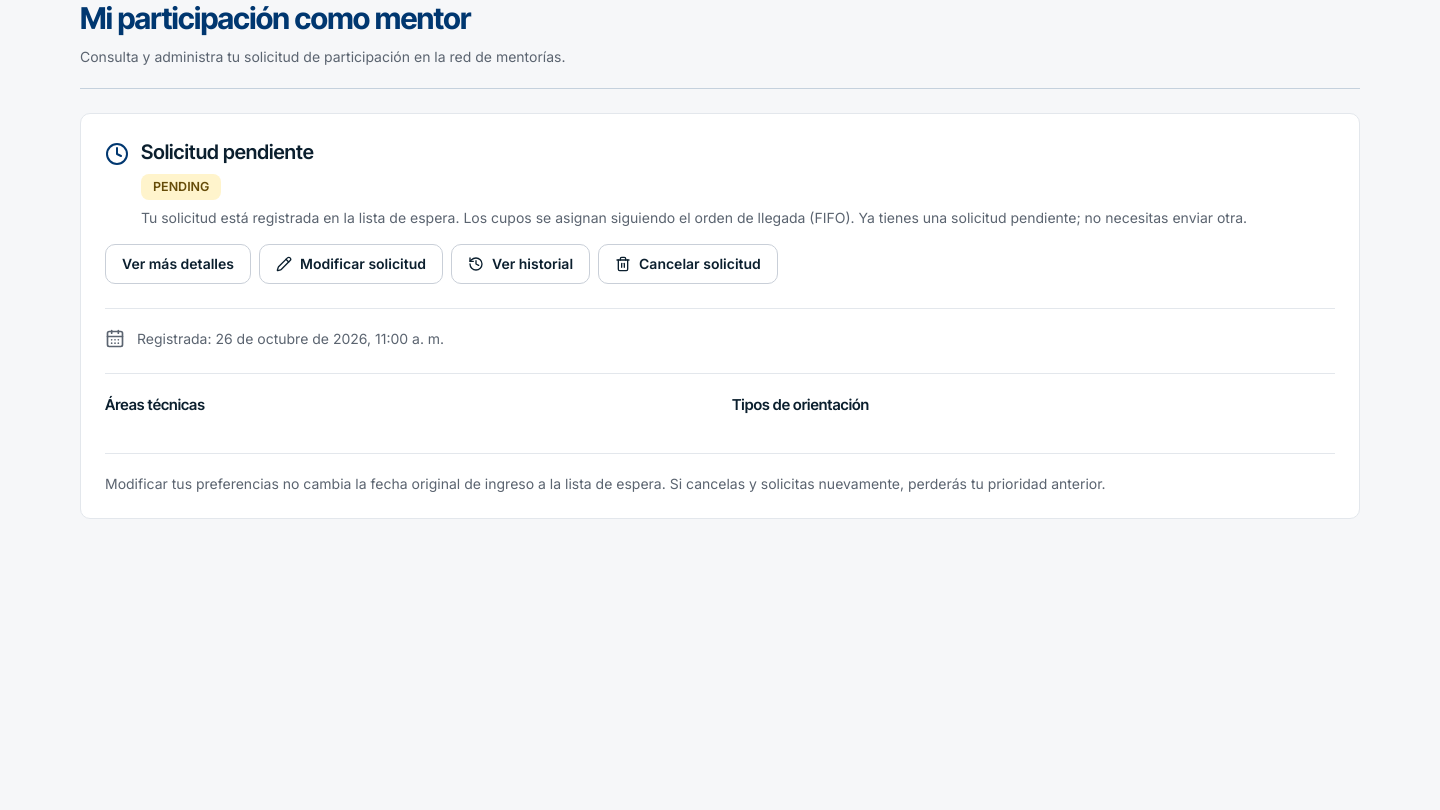
Test: Cancelación persistida › muestra el éxito tras la respuesta real
Click the button "Cancelar solicitud".
click(688, 264)  # box x1=598 y1=244 x2=778 y2=284
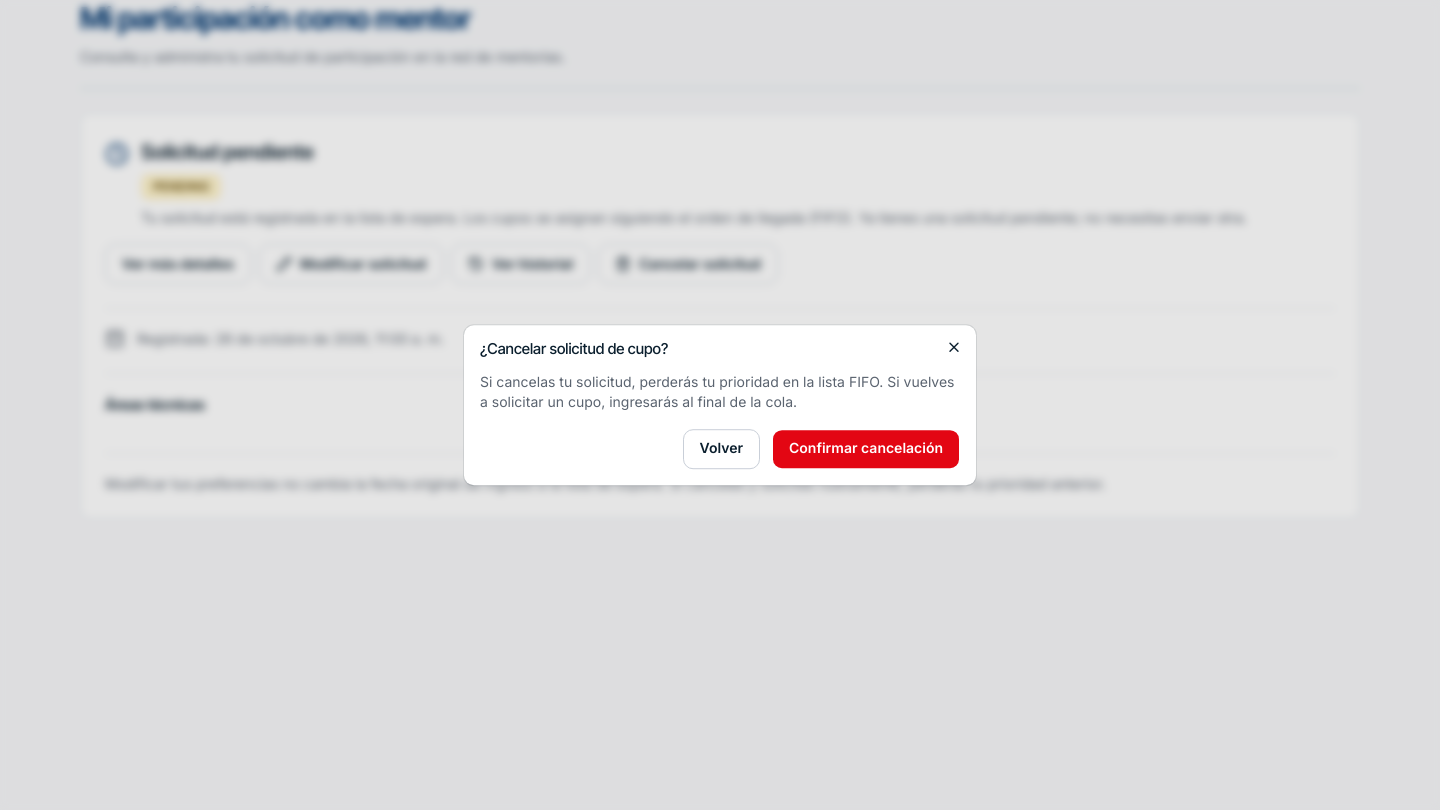
Click the button "Confirmar cancelación".
click(866, 449)  # box x1=772 y1=429 x2=960 y2=469
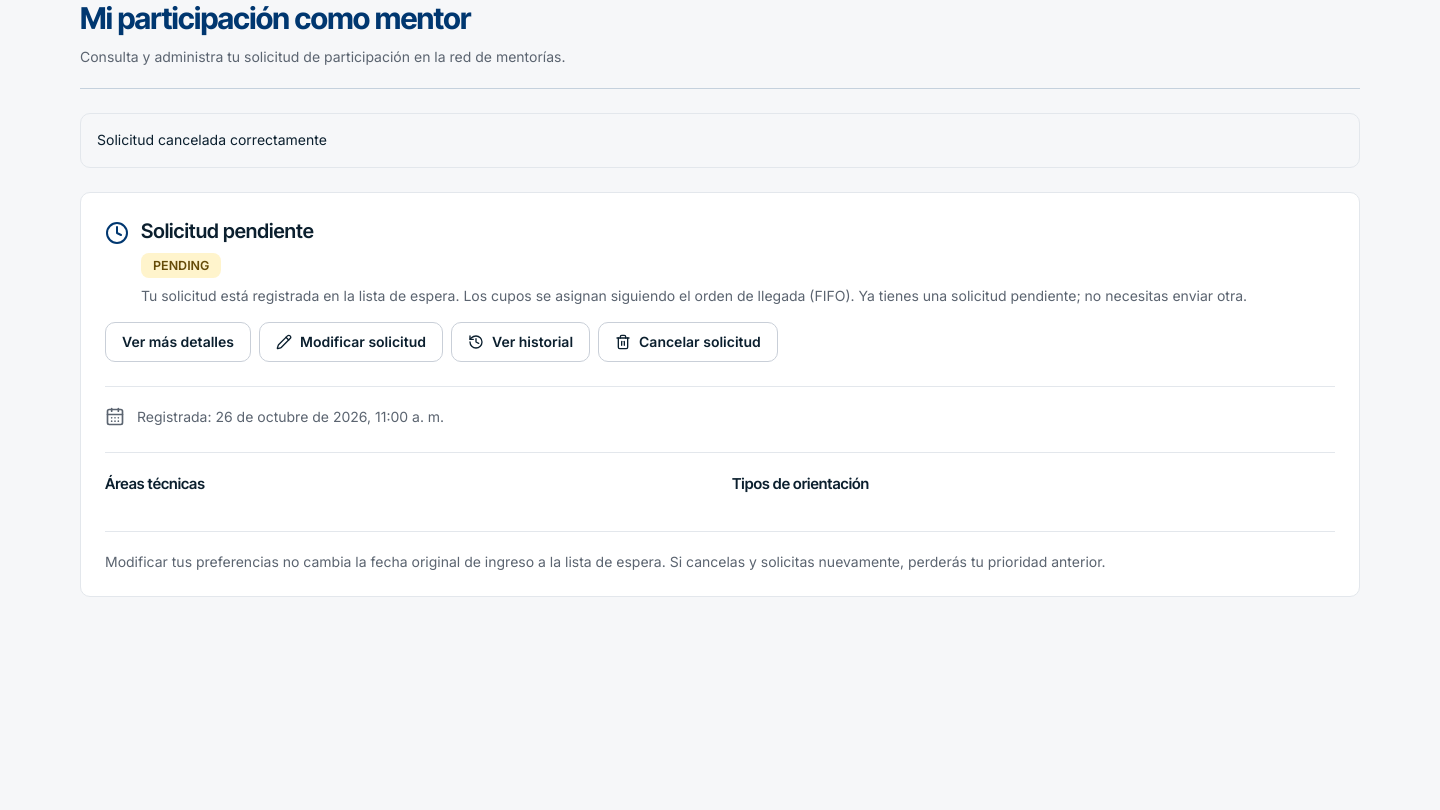
Result: the message reads "Solicitud cancelada correctamente" at x1=97 y1=131 x2=327 y2=148
